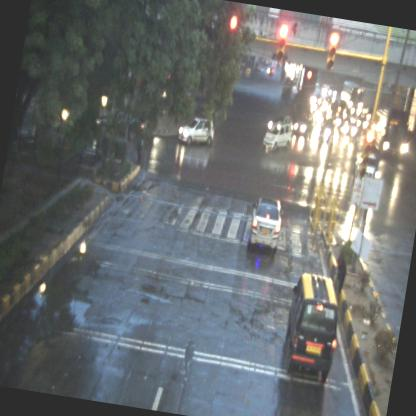bus: (371, 107, 413, 162), (339, 80, 365, 110)
car: (279, 270, 346, 387), (245, 196, 284, 256), (177, 112, 217, 150), (262, 120, 292, 152), (267, 114, 294, 132)
